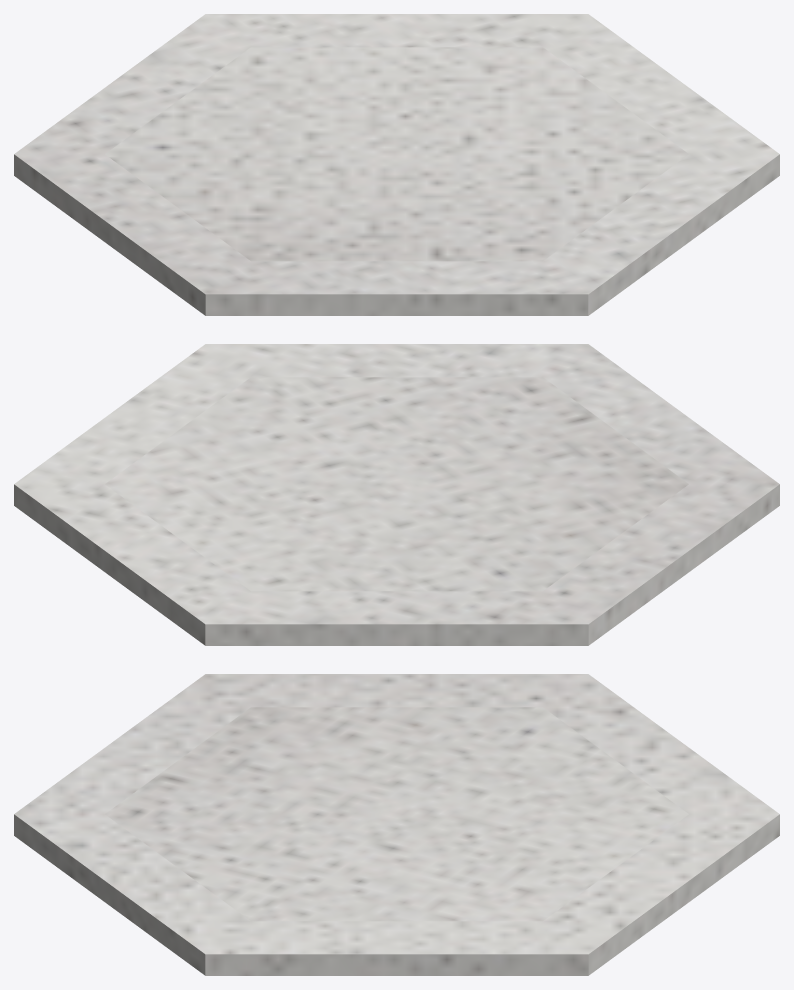
File: lamp1.fbx
3 views of the same model, one above another, from view 1: azimuth 30°, elevation 25°; view 2: azimuth 150°, elevation 25°; view 3: azimuth 270°, elevation 25° (orthographic).
Visible parts, largest first — view 1: Cylinder.001; view 2: Cylinder.001; view 3: Cylinder.001.
Boxes of the visible parts, bbox=[...] form: Cylinder.001: bbox=[14, 14, 779, 315]; Cylinder.001: bbox=[14, 344, 779, 645]; Cylinder.001: bbox=[14, 674, 779, 975].
Size of the model in its own units: 923 by 135 by 1066.
